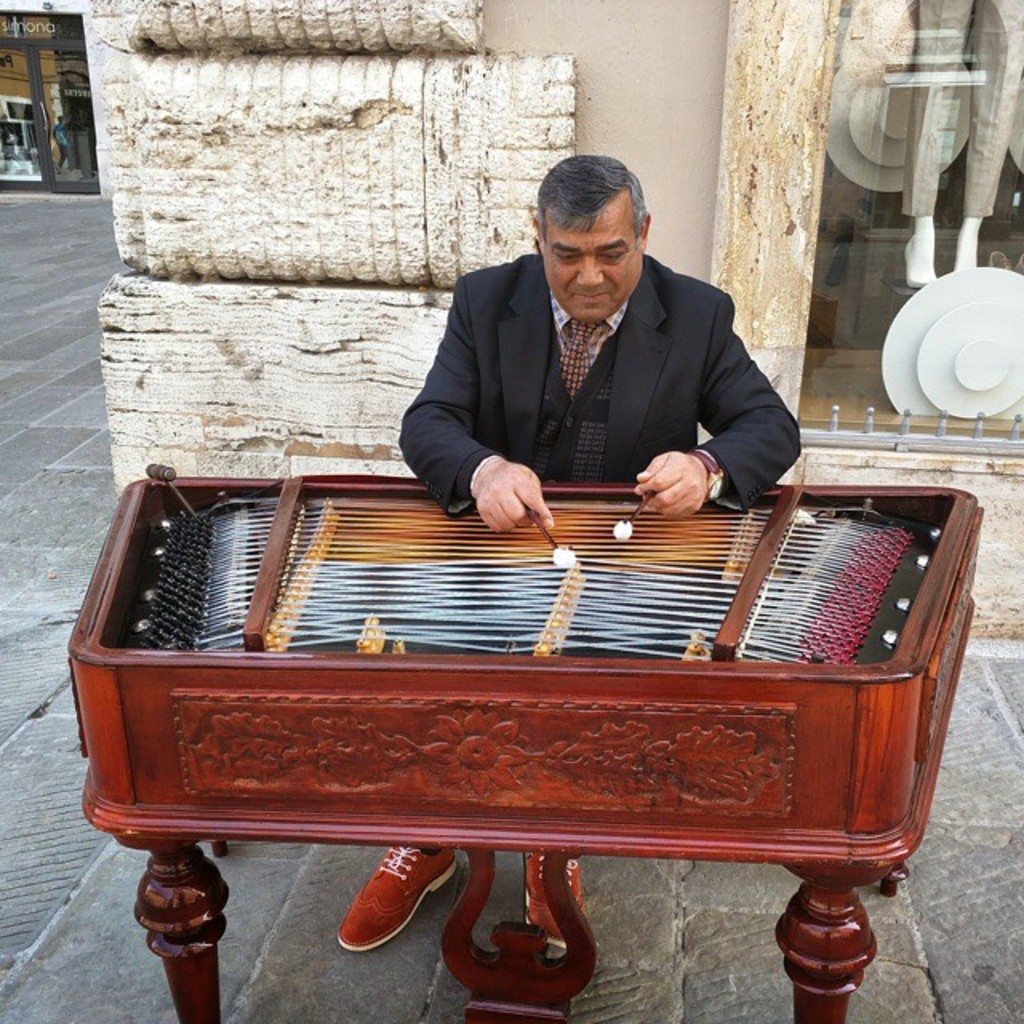Person: (333, 154, 802, 953)
